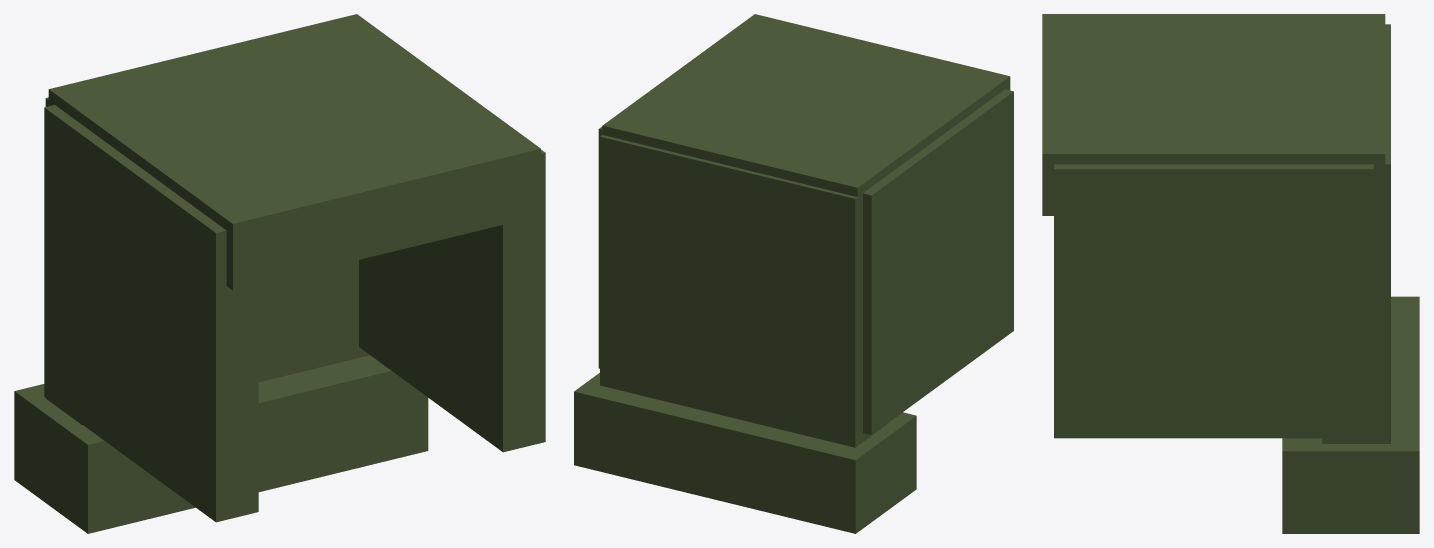
Rendered from hat_hood.glb.
3 renders of one model, left to right at view 1: azimuth 30°, elevation 25°; view 2: azimuth 150°, elevation 25°; view 3: azimuth 270°, elevation 25°, orthographic. The views are drawn at different scales.
Visible parts, largest first — view 1: hood; view 2: hood; view 3: hood.
Part boxes in pixels (x1,y1,x2,y2): hood: [14, 14, 545, 533]; hood: [574, 14, 1013, 533]; hood: [1042, 14, 1419, 533].
Size of the model in its own units: 0.32 by 0.36 by 0.33.
